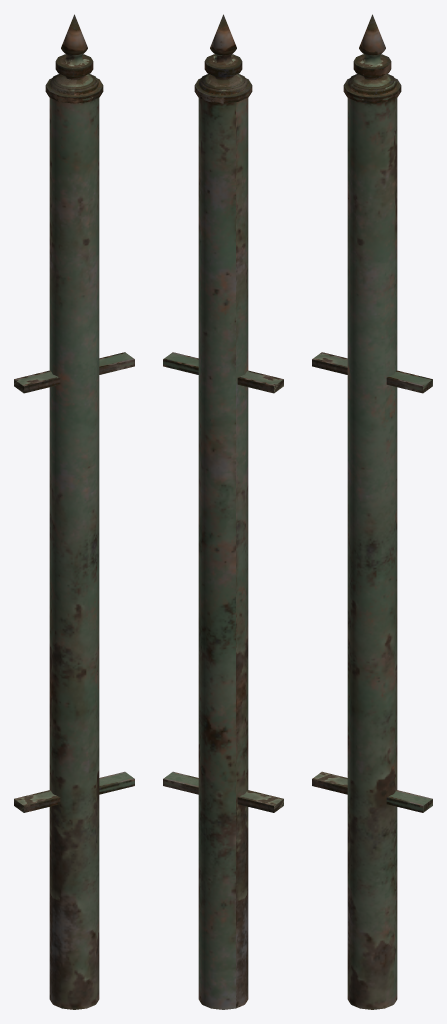
File: Garden_Pole_w_Pins.FBX
3 views of the same model, side by side, from view 1: azimuth 30°, elevation 25°; view 2: azimuth 150°, elevation 25°; view 3: azimuth 330°, elevation 25° (orthographic).
Parts seen in each view (by area): view 1: Garden_Pole_w_Pins, Pins; view 2: Garden_Pole_w_Pins, Pins; view 3: Garden_Pole_w_Pins, Pins.
Boxes of the visible parts, x1,y1,x2,y2 form: Garden_Pole_w_Pins: (45, 14, 103, 1009); Pins: (14, 352, 134, 812); Garden_Pole_w_Pins: (194, 14, 252, 1009); Pins: (163, 352, 283, 812); Garden_Pole_w_Pins: (343, 14, 401, 1009); Pins: (312, 352, 432, 812).
Size of the model in its own units: 33.53 by 284 by 15.17.
